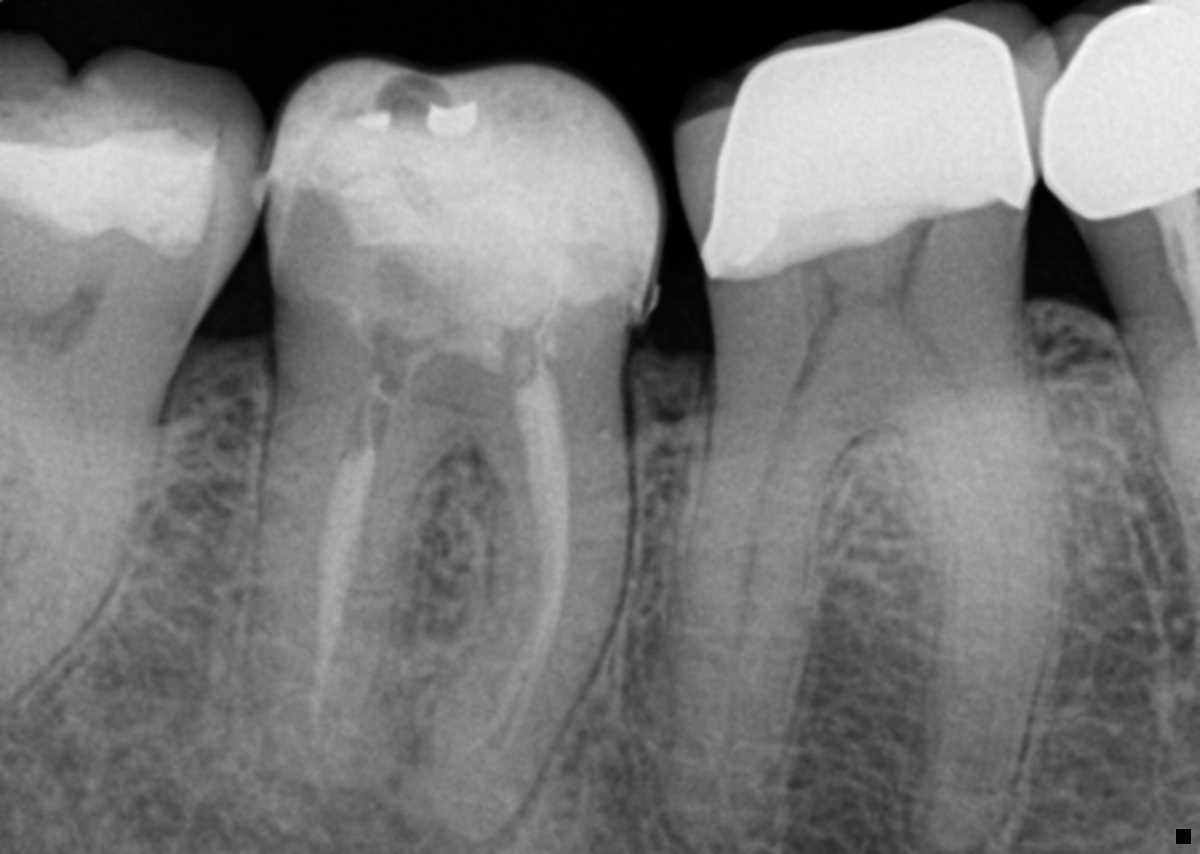Distal Canal: (697, 306, 846, 809)
Distal Root: (649, 300, 856, 854), (238, 331, 460, 795)
Mesial Canal: (892, 307, 1010, 799)
Mesial Root: (397, 314, 636, 848), (864, 286, 1065, 854), (0, 337, 172, 694)
Root Canal Filling: (461, 362, 570, 772), (312, 445, 378, 748)
